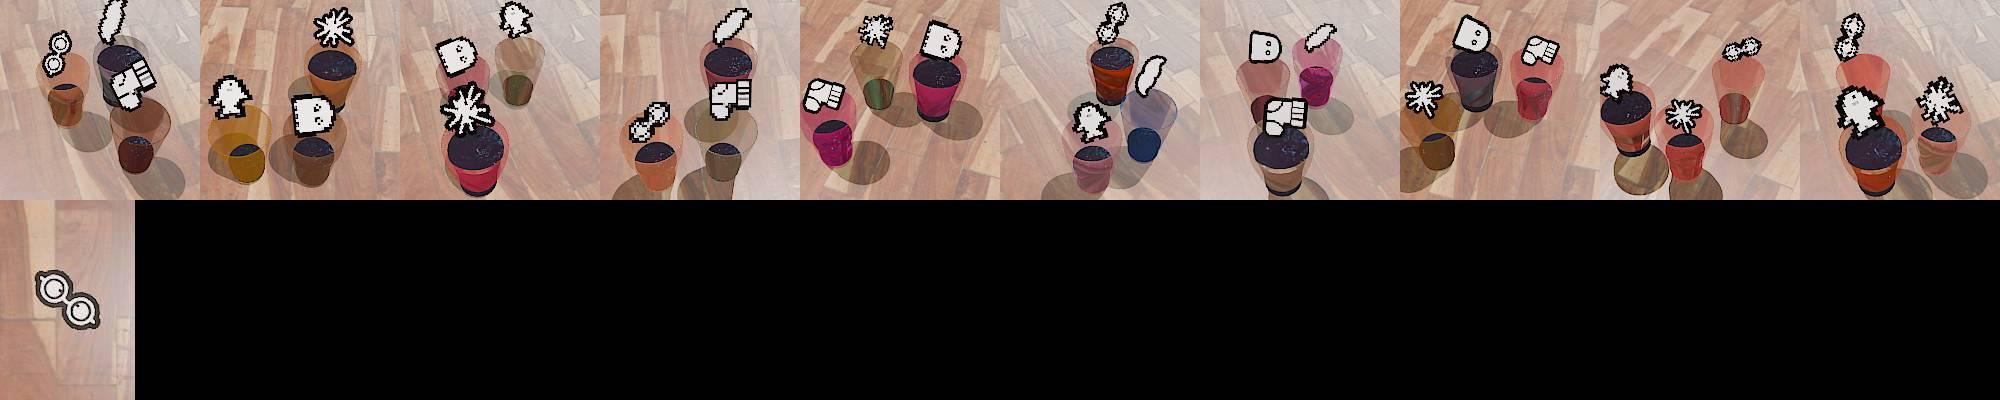icon: (32, 268, 103, 331), (440, 80, 496, 138), (103, 54, 158, 111), (1833, 85, 1885, 136), (1915, 75, 1964, 127), (628, 97, 673, 144), (208, 73, 253, 120), (291, 93, 337, 136), (434, 36, 480, 79), (918, 19, 962, 62), (312, 5, 356, 48), (1263, 96, 1307, 138), (708, 78, 754, 118), (1071, 98, 1112, 143), (1833, 11, 1867, 62), (710, 6, 753, 47), (1133, 54, 1168, 101), (802, 76, 846, 115), (1663, 97, 1704, 136), (1096, 1, 1130, 47), (1452, 14, 1491, 54), (1404, 79, 1444, 117), (42, 29, 73, 78), (1597, 62, 1635, 101), (97, 0, 129, 45), (497, 1, 534, 39), (857, 13, 893, 48), (1520, 34, 1560, 66), (1249, 28, 1283, 64), (1302, 19, 1338, 54), (1721, 36, 1761, 62)
